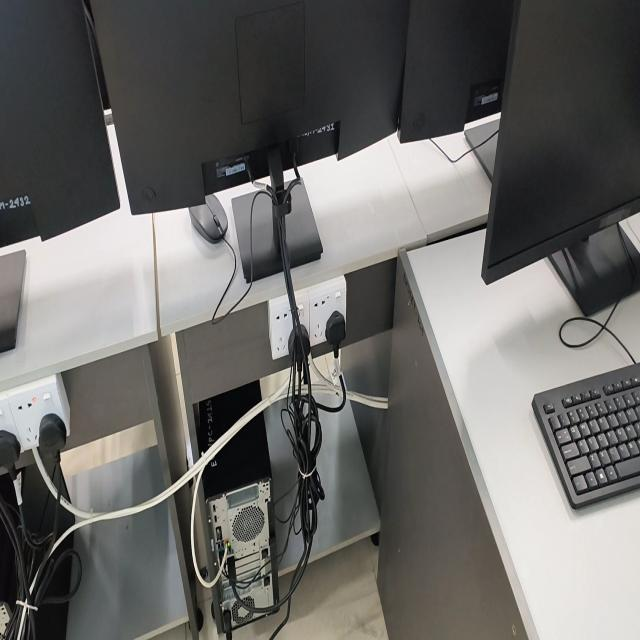Cpu: (197, 376, 279, 638), (0, 456, 78, 639)
Keyboard: (532, 364, 640, 509)
Monitor: (92, 0, 409, 214), (481, 0, 640, 316), (0, 0, 120, 247), (399, 0, 514, 180)
Mouse: (188, 195, 228, 243)
